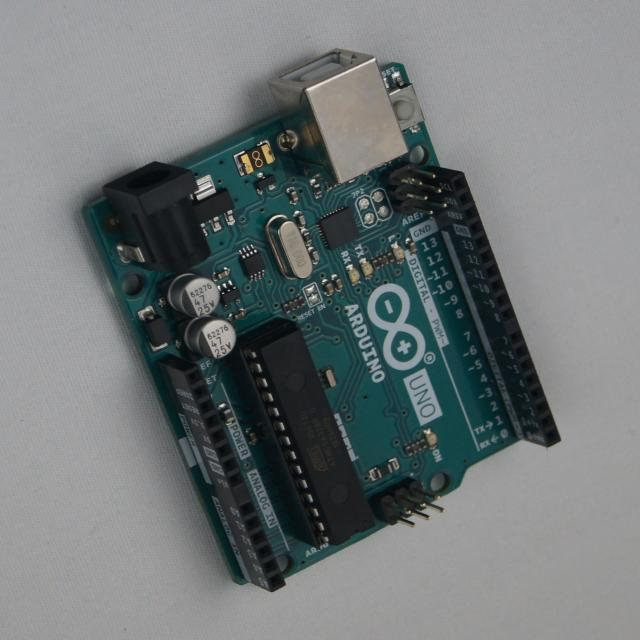Arduino Uno -Green-: (87, 50, 560, 591)
